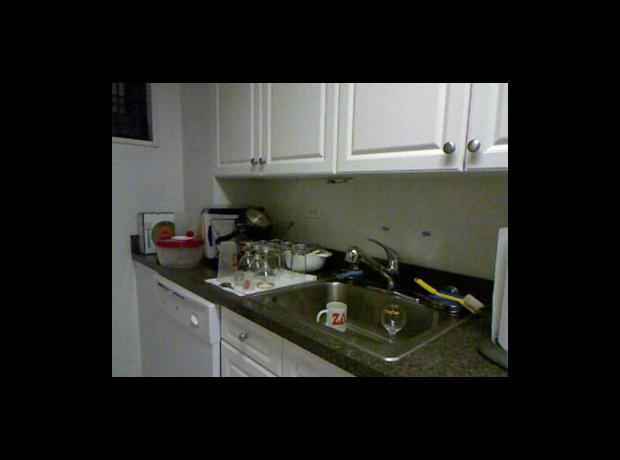Lavaplatos: (244, 227, 486, 366)
